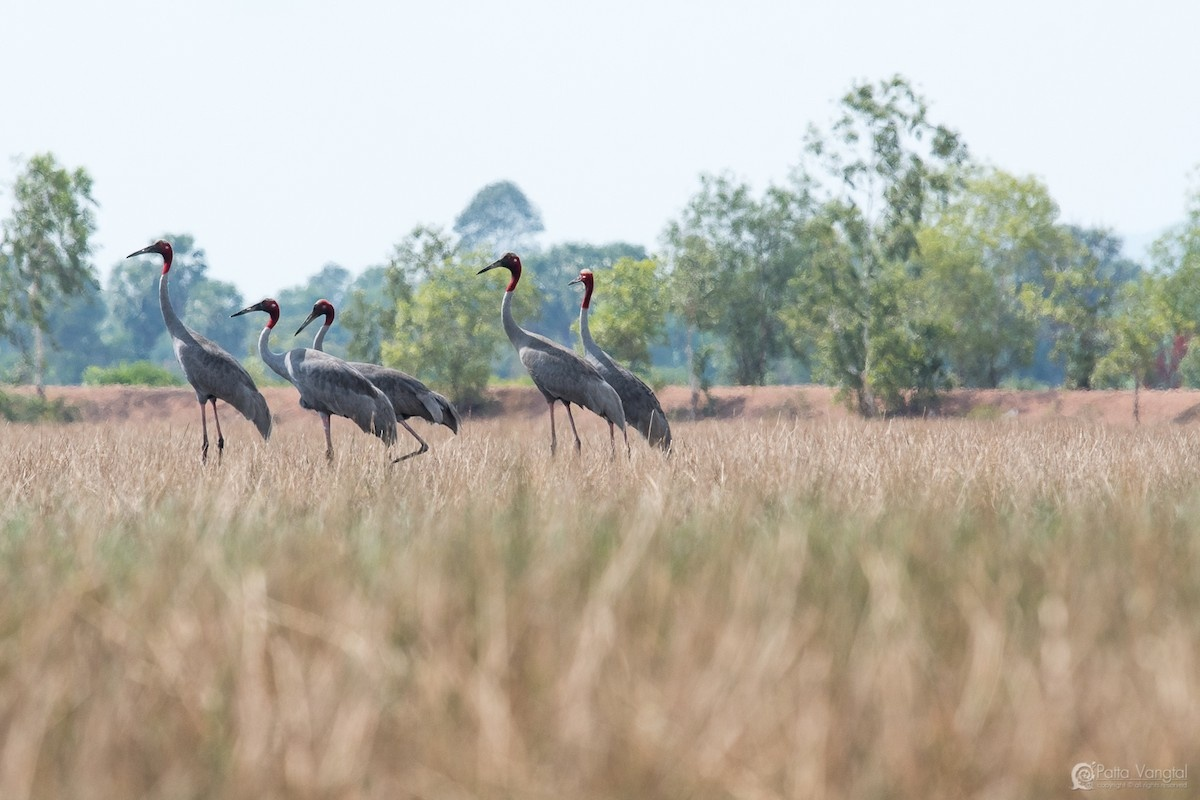crane: (124, 231, 276, 455), (234, 292, 393, 467), (472, 246, 599, 459), (300, 300, 455, 451), (571, 265, 688, 462)
